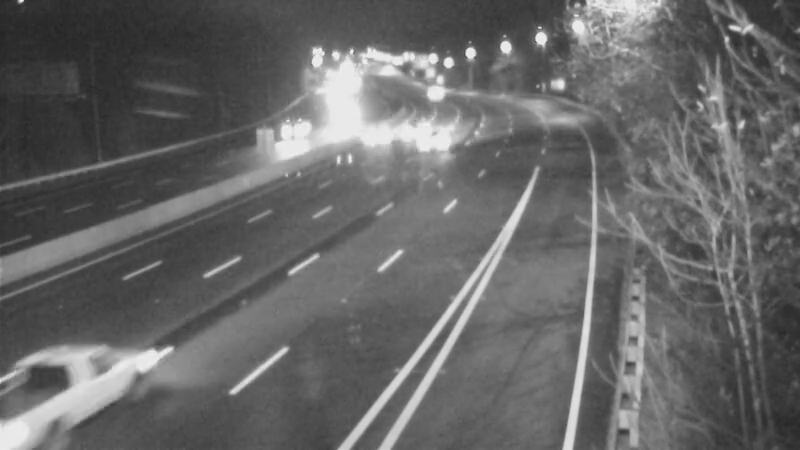vehicle: (17, 341, 127, 450), (410, 66, 460, 116), (384, 104, 434, 154), (354, 108, 404, 158), (408, 123, 458, 173), (270, 104, 320, 154), (316, 92, 366, 142)
